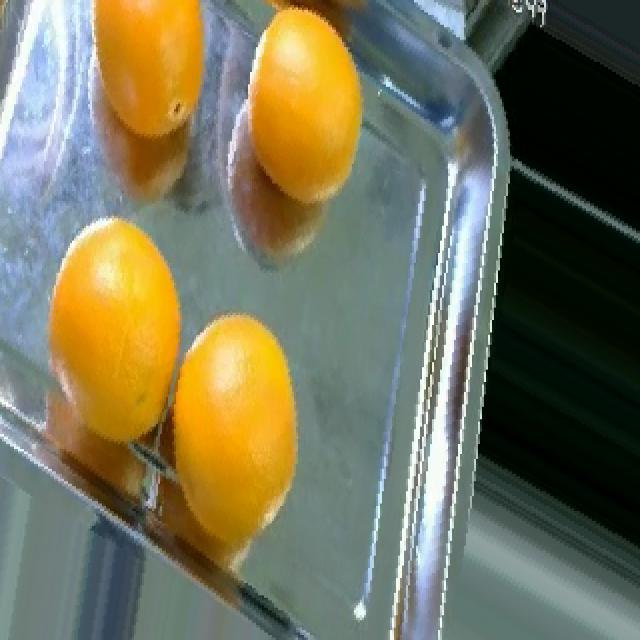Fruit: (32, 196, 188, 394)
